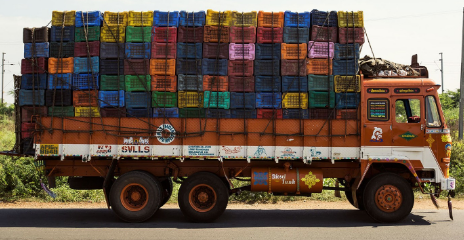truck: (9, 9, 455, 228)
